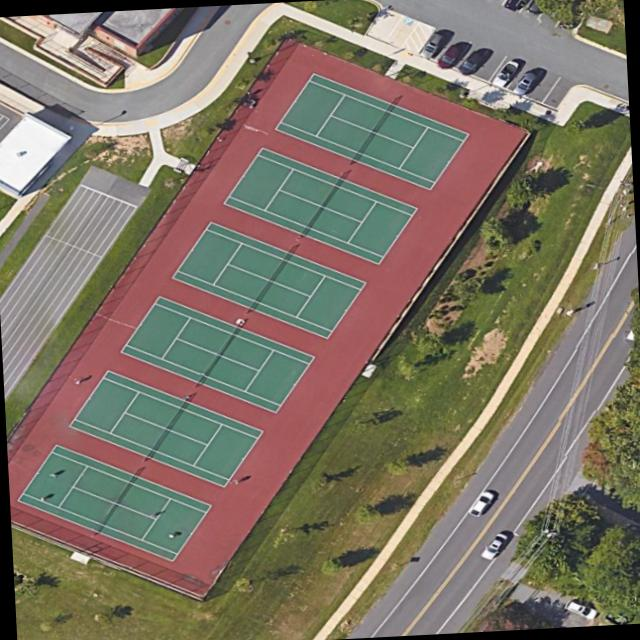small-vehicle: (478, 531, 510, 562), (489, 58, 521, 88), (466, 488, 496, 518), (416, 31, 447, 59), (563, 598, 598, 622), (433, 43, 464, 70), (455, 50, 485, 77), (510, 70, 536, 96)
